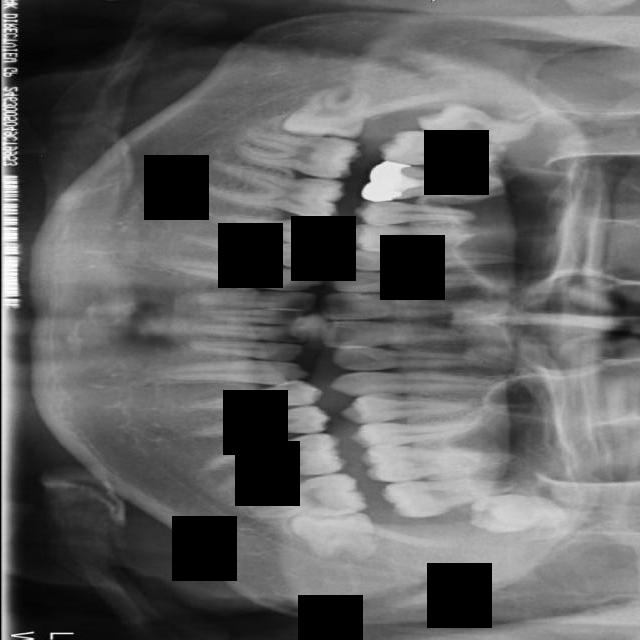3M ESPE Implant: (414, 103, 538, 149)
52: (359, 158, 422, 209)
73: (54, 589, 68, 590)
BioHorizons Implant: (379, 480, 516, 519)
BioLife Implant: (466, 492, 570, 537)
Biomet 3i Implant: (288, 510, 376, 560)
Blue Sky Bio Implant: (240, 467, 369, 532)
Caries: (378, 128, 507, 169)
Implant: (233, 130, 361, 184)
Keystone Dental Implant: (284, 87, 372, 137)
